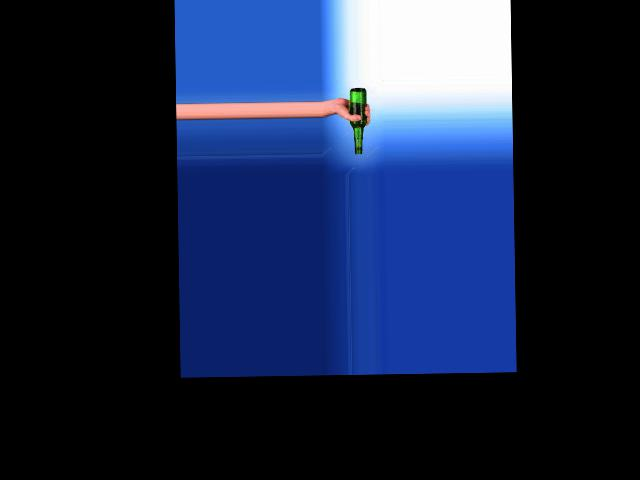beer: (349, 87, 366, 154)
